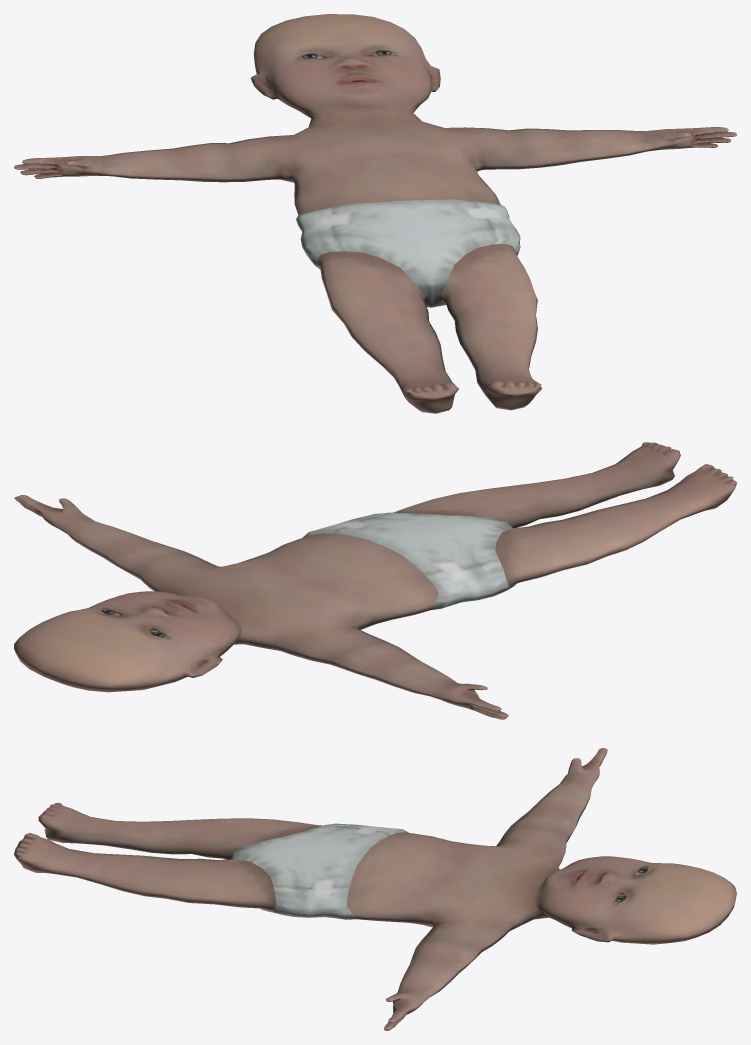
Rendered from babe.fbx.
3 views of the same model, one above another, from view 1: azimuth 30°, elevation 25°; view 2: azimuth 150°, elevation 25°; view 3: azimuth 270°, elevation 25° (orthographic). The views are drawn at different scales.
Visible parts, largest first — view 1: body; view 2: body; view 3: body.
Boxes of the visible parts, x1,y1,x2,y2 form: body: (14,14,736,413); body: (14,442,736,719); body: (14,748,736,1030).
Bounding box in the file's own units: 183 × 20.61 × 215.
